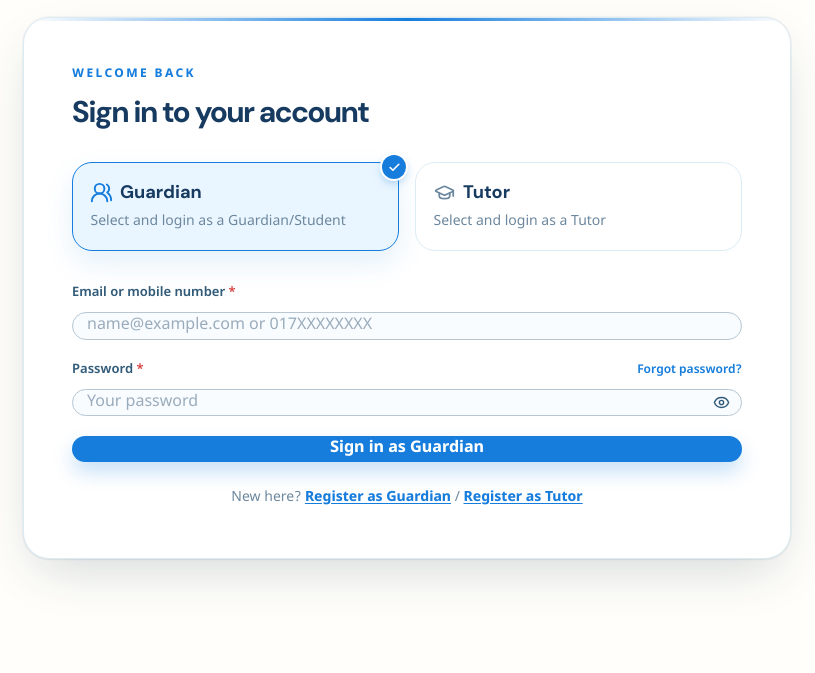
Scenario: sign-in error messages › shows a rate-limit block message verbatim instead of the wrong-password hint
Step 1. Type "guardian@example.com" into the field labelled "Email or mobile number *" → (407, 326), box [72, 312, 742, 340]
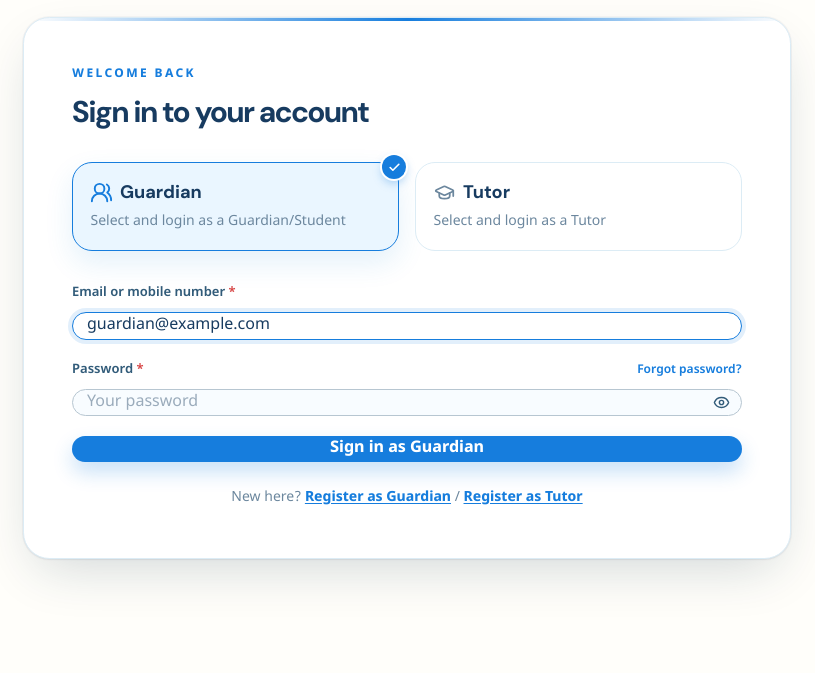
Step 2. Type "whatever" into the password field labelled "Password *" → (407, 402), box [72, 388, 742, 416]
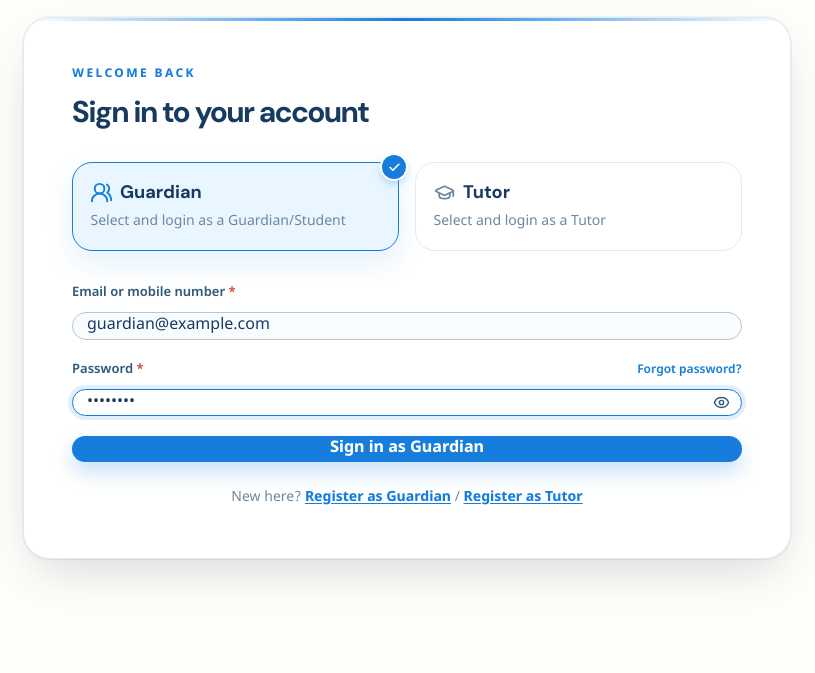
Step 3. Click the button "Sign in as Guardian" → click(407, 449), box [72, 436, 742, 462]
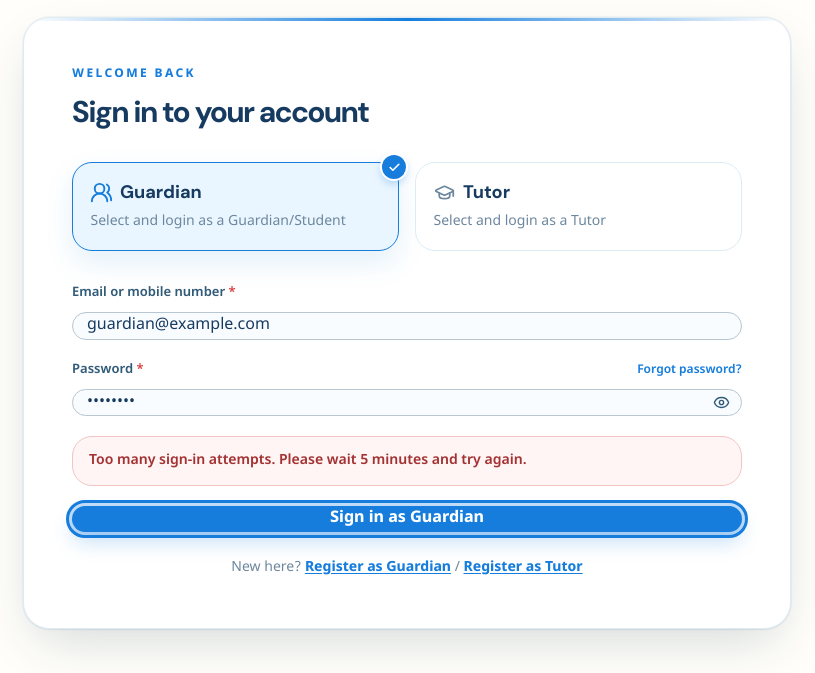
Expected: the message reads "Too many sign-in attempts. Please wait 5 minutes and try again.", [89, 451, 527, 470]
